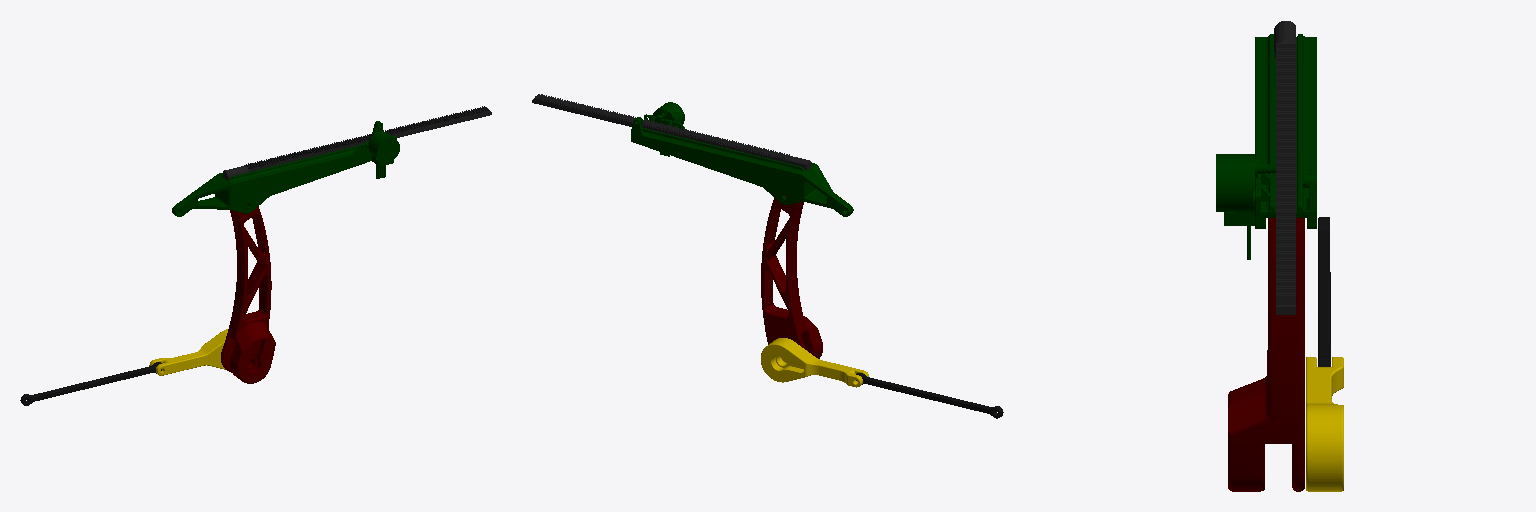
URDF robot description (lift-arm):
<?xml version="1.0"?>

<robot name="lift-arm" xmlns:xacro="http://ros.org/wiki/xacro">


  <link name="base_link">
    <visual>
      <origin rpy="0 0 3.142" xyz="0 0 0"/>
      <geometry>
        <mesh filename="package://lift-arm-description/models/meshes/collada_files/base.dae"/>
      </geometry>
    </visual>
    <collision>
    	<origin rpy="0 0 3.142" xyz="0 0 0"/>
      <geometry>
        <mesh filename="package://lift-arm-description/models/meshes/collada_files/base.dae"/>
    	</geometry>
    </collision>
  </link>
  


  <link name="main_arm_link">
    <visual>
      <origin rpy="1.571 -1.571 1.571" xyz="0 0 0"/>
      <geometry>
        <mesh filename="package://lift-arm-description/models/meshes/collada_files/main_arm.dae"/>
      </geometry>
    </visual>
    <collision>
    	<origin rpy="1.571 -1.571 1.571" xyz="0 0 0"/>
      <geometry>
        <mesh filename="package://lift-arm-description/models/meshes/collada_files/main_arm.dae"/>
    	</geometry>
    </collision>
  </link>
    
  <joint name="main_arm_joint" type="revolute">
    <parent link="base_link"/>
    <child link="main_arm_link"/>
    <origin xyz="0 -0.0095 0.044953" rpy="0 0 1.571"/>
    <limit lower="-1.920" upper="1.134" effort="0.1" velocity="0.005"/>
    <axis xyz="1 0 0"/>
  </joint>



  <link name="sec_arm_link">
    <visual>
      <origin rpy="1.571 0 1.571" xyz="0 0 0"/>
      <geometry>
        <mesh filename="package://lift-arm-description/models/meshes/collada_files/sec_arm.dae"/>
      </geometry>
    </visual>
    <collision>
    	<origin rpy="1.571 0 1.571" xyz="0 0 0"/>
      <geometry>
        <mesh filename="package://lift-arm-description/models/meshes/collada_files/sec_arm.dae"/>
    	</geometry>
    </collision>
  </link>

  <joint name="sec_arm_joint" type="revolute">
    <parent link="base_link"/>
    <child link="sec_arm_link"/>
    <origin xyz="0 0.0095 0.044953" rpy="0 0 1.571"/>
    <limit lower="-0.436" upper="2.531" effort="0.1" velocity="0.005"/>
    <axis xyz="1 0 0"/>
  </joint>


  <link name="strut_link">
    <visual>
      <origin rpy="1.571 0 1.571" xyz="0 0 0"/>
      <geometry>
        <mesh filename="package://lift-arm-description/models/meshes/collada_files/strut.dae"/>
      </geometry>
    </visual>
    <collision>
    	<origin rpy="1.571 0 1.571" xyz="0 0 0"/>
    	<geometry>
    		<mesh filename="package://lift-arm-description/models/meshes/collada_files/strut.dae"/>
    	</geometry>
    </collision>
  </link>

  <joint name="strut_joint_lower" type="continuous">
    <parent link="sec_arm_link"/>
    <child link="strut_link"/>
    <origin xyz="0.006 0.09 0" rpy="0 0 0"/>
    <axis xyz="1 0 0"/>
  </joint>


  <link name="upper_arm_link">
    <visual>
      <origin rpy="1.571 0 1.571" xyz="0 0 0"/>
      <geometry>
        <mesh filename="package://lift-arm-description/models/meshes/collada_files/upper_arm.dae"/>
      </geometry>
    </visual>
    <collision>
    	<origin rpy="1.571 0 1.571" xyz="0 0 0"/>
    	<geometry>
    		<mesh filename="package://lift-arm-description/models/meshes/collada_files/upper_arm.dae"/>
    	</geometry>
    </collision>
  </link>

  <joint name="upper_arm_joint" type="revolute">
    <parent link="main_arm_link"/>
    <child link="upper_arm_link"/>
    <origin xyz="0.0095 0 0.18" rpy="0 0 0"/>
    <limit lower="-0.873" upper="1.484" effort="0.1" velocity="0.005"/>
    <axis xyz="1 0 0"/>
  </joint>
  

  <link name="rack_link">
    <visual>
      <origin rpy="1.571 0 0" xyz="0 0 0"/>
      <geometry>
        <mesh filename="package://lift-arm-description/models/meshes/collada_files/rack.dae"/>
      </geometry>
    </visual>
    <collision>
    	<origin rpy="1.571 0 0" xyz="0 0 0"/>
    	<geometry>
    		<mesh filename="package://lift-arm-description/models/meshes/collada_files/rack.dae"/>
    	</geometry>
    </collision>
  </link>

  <joint name="rack_joint" type="prismatic">
    <parent link="upper_arm_link"/>
    <child link="rack_link"/>
    <origin xyz="0 0 0.033" rpy="0 0 -1.571"/>
    <limit lower="-0.1" upper="0.15" effort="0.1" velocity="0.005"/>
    <axis xyz="1 0 0"/>
  </joint>

</robot>

--- Facts derived from the render (not from the file) ---
3 views of the same robot in one strip: view 1: azimuth 30°, elevation 25°; view 2: azimuth 150°, elevation 25°; view 3: azimuth 270°, elevation 25° (orthographic).
Robot: lift-arm — 6 links, 5 joints (3 revolute, 1 continuous, 1 prismatic); root link base_link; default pose: every joint at zero.
Visible links, largest first — view 1: upper_arm_link, main_arm_link, rack_link, sec_arm_link, strut_link; view 2: upper_arm_link, main_arm_link, sec_arm_link, rack_link, strut_link; view 3: main_arm_link, upper_arm_link, rack_link, sec_arm_link, strut_link.
Link boxes in pixels (x1,y1,x2,y2): upper_arm_link: (172,121,399,216); main_arm_link: (221,204,275,383); rack_link: (223,106,491,179); sec_arm_link: (149,329,227,375); strut_link: (20,362,161,405); upper_arm_link: (631,102,853,216); main_arm_link: (761,195,822,358); sec_arm_link: (761,338,868,387); rack_link: (532,94,811,170); strut_link: (856,373,1003,418); main_arm_link: (1228,218,1304,491); upper_arm_link: (1216,34,1316,259); rack_link: (1274,21,1295,314); sec_arm_link: (1306,357,1343,491); strut_link: (1318,217,1330,366).
Bounding box of the posed robot: 0.556 × 0.0619 × 0.25 m (x, y, z).
Meshes: 6 distinct files referenced, 5 mesh visuals loaded (5 Collada DAE); not drawn: 1 (reference not matched to a file when rendering).